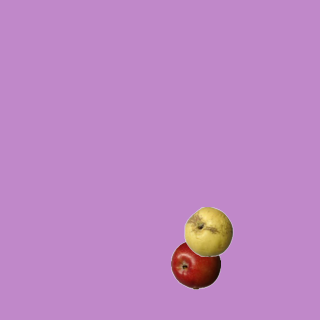Apple Braeburn: (170, 239, 220, 289)
Apple Golden 1: (183, 206, 233, 256)
